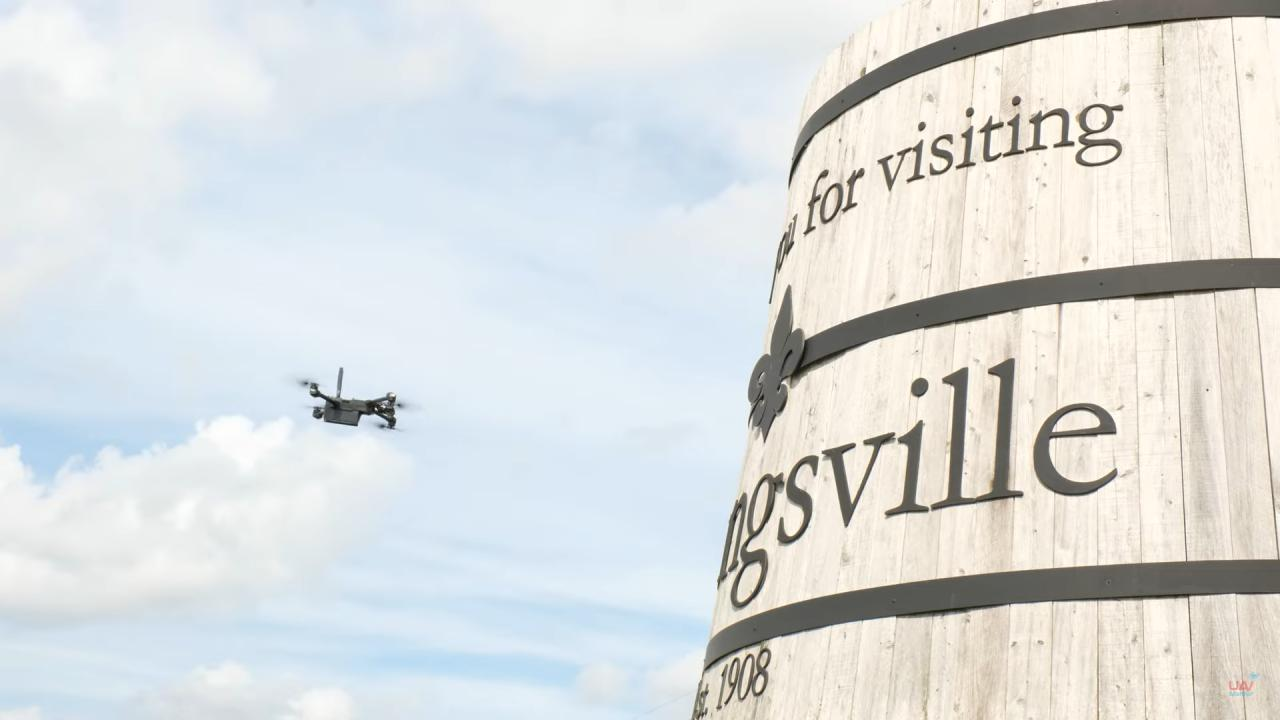Drone: (283, 356, 427, 444)
